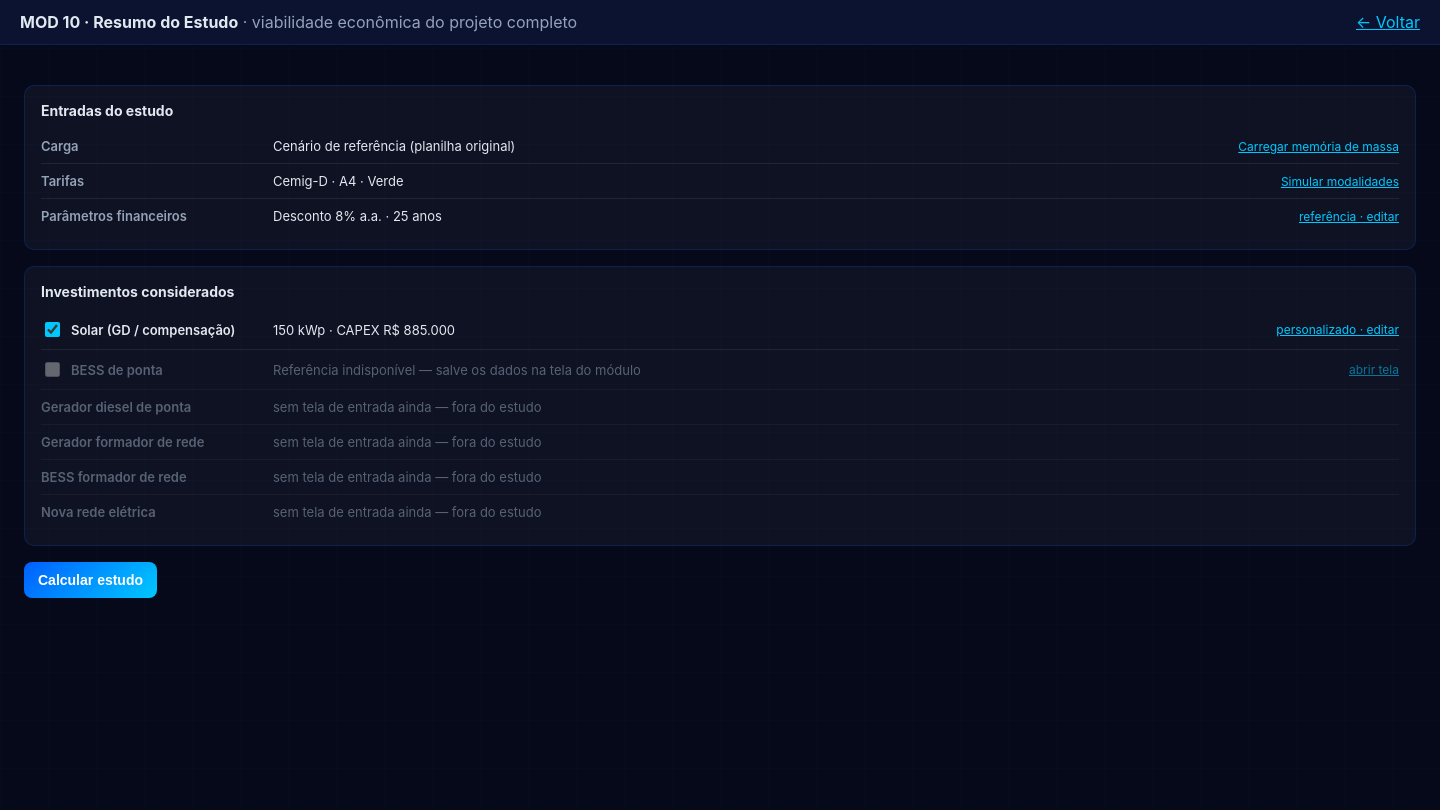
SummaryPage › falha ao buscar a referência não descarta o solar salvo nem se passa por falta de licença
The image size is (1440, 810).
Click the button "Calcular estudo" at [90, 580], box left=24, top=562, right=157, bottom=598
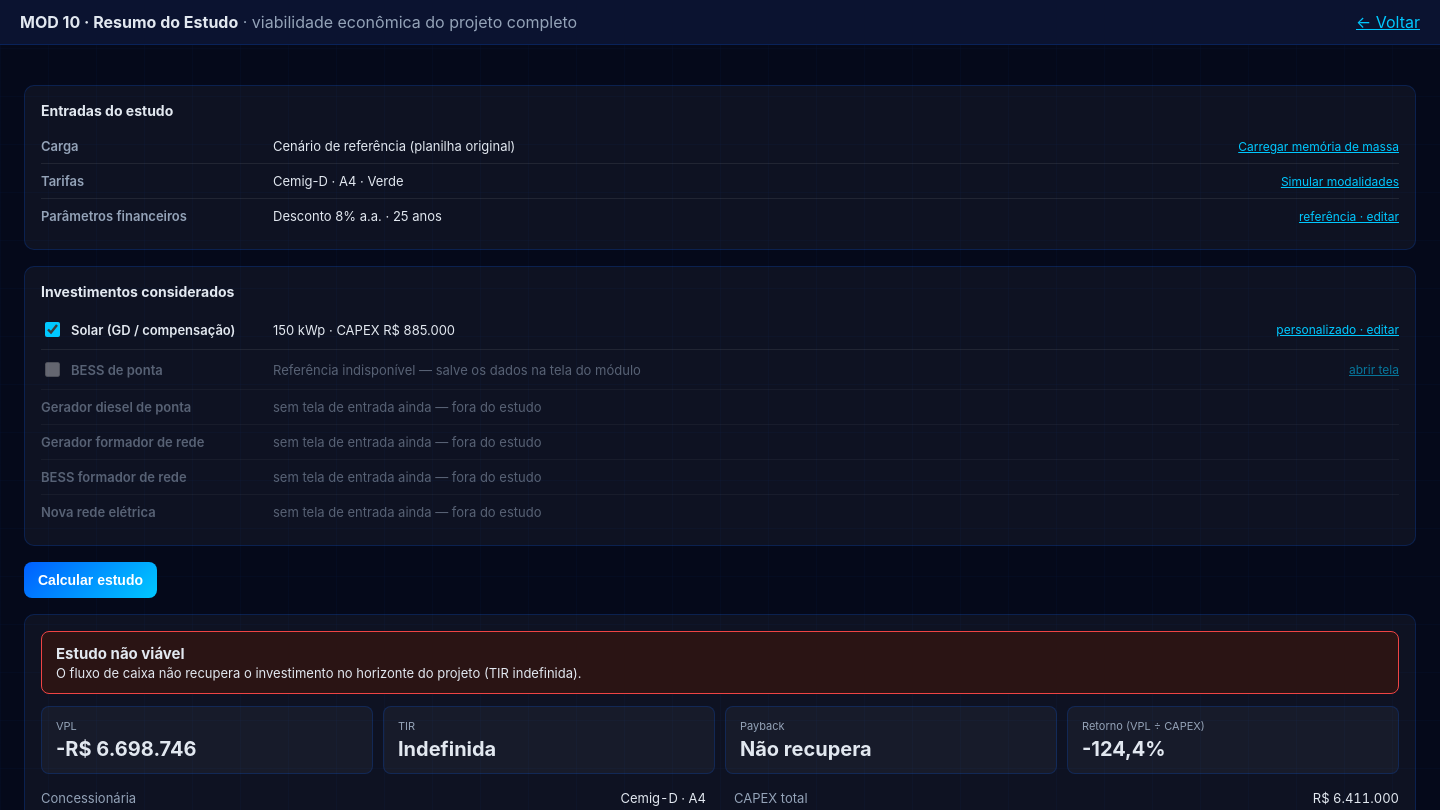
Expected: the text "Referência indisponível — salve os dados na tela do módulo" is shown, left=273, top=362, right=641, bottom=378
Now the text "Estudo não viável" is shown, box left=56, top=644, right=185, bottom=663
